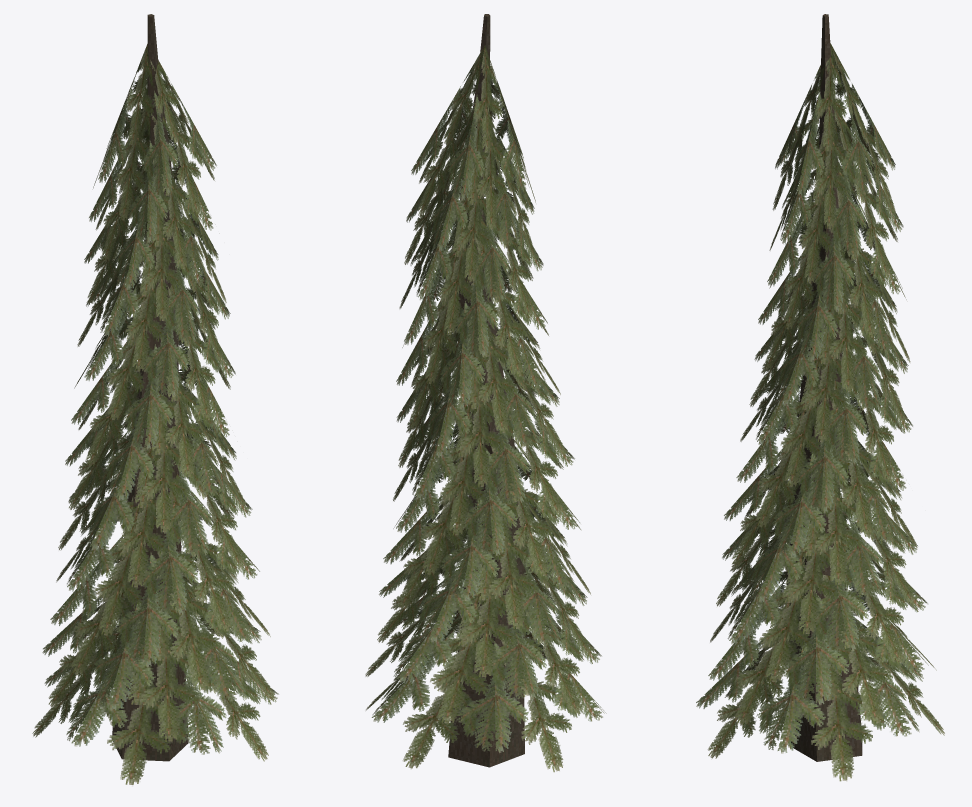
File: tree3.glb
3 views of the same model, side by side, from view 1: azimuth 30°, elevation 25°; view 2: azimuth 150°, elevation 25°; view 3: azimuth 270°, elevation 25° (orthographic).
Parts seen in each view (by area): view 1: Cylinder.008; view 2: Cylinder.008; view 3: Cylinder.008.
Part boxes in pixels (x1,y1,x2,y2): Cylinder.008: (32,14,278,785); Cylinder.008: (365,14,606,772); Cylinder.008: (696,14,944,781).
Bounding box in the file's own units: 3.67 × 9.97 × 3.63.
2 materials, 2 textured.
